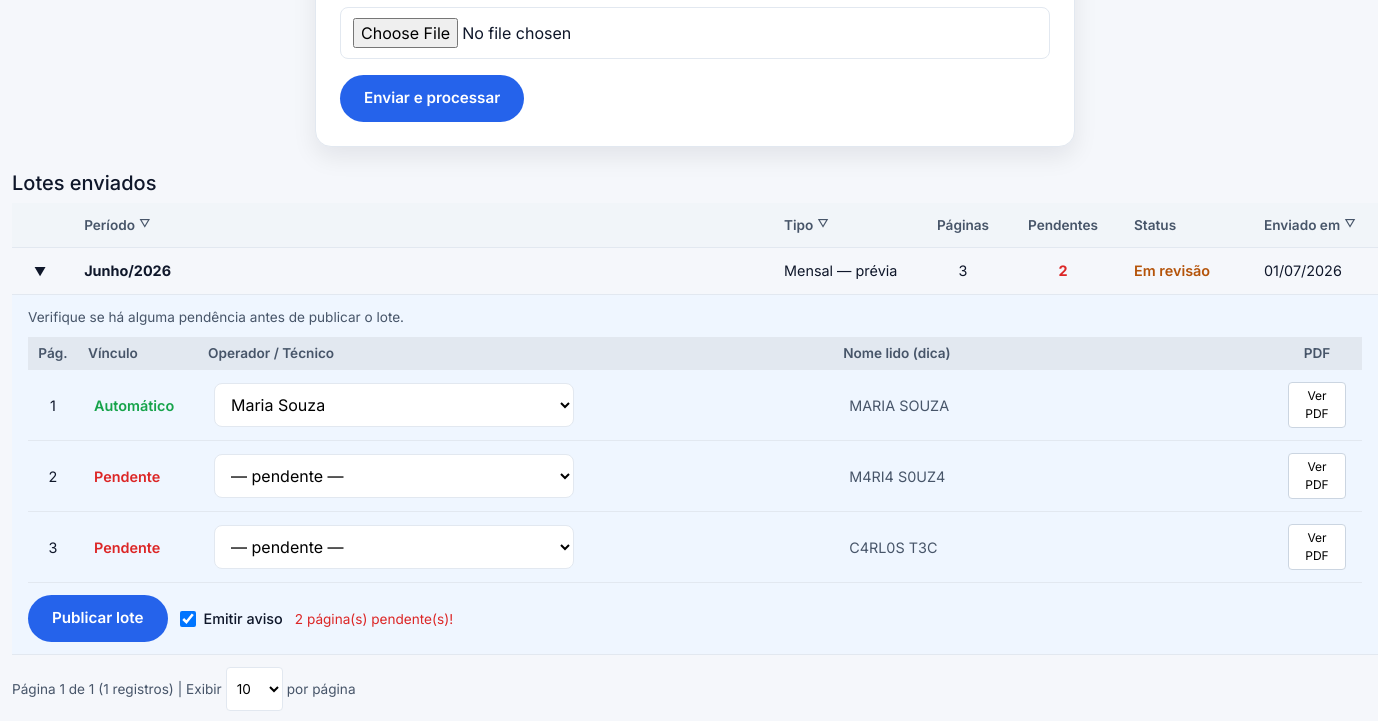
Test: AdminPontoComponent › render da revisão do lote (select de vínculo e botão Publicar) › a recusa da publicação aparece NA TELA, junto do botão (não só no toast)
(page scrolled)
Click the button with class "btn-publicar".
click(98, 619)  # box [28, 595, 168, 642]
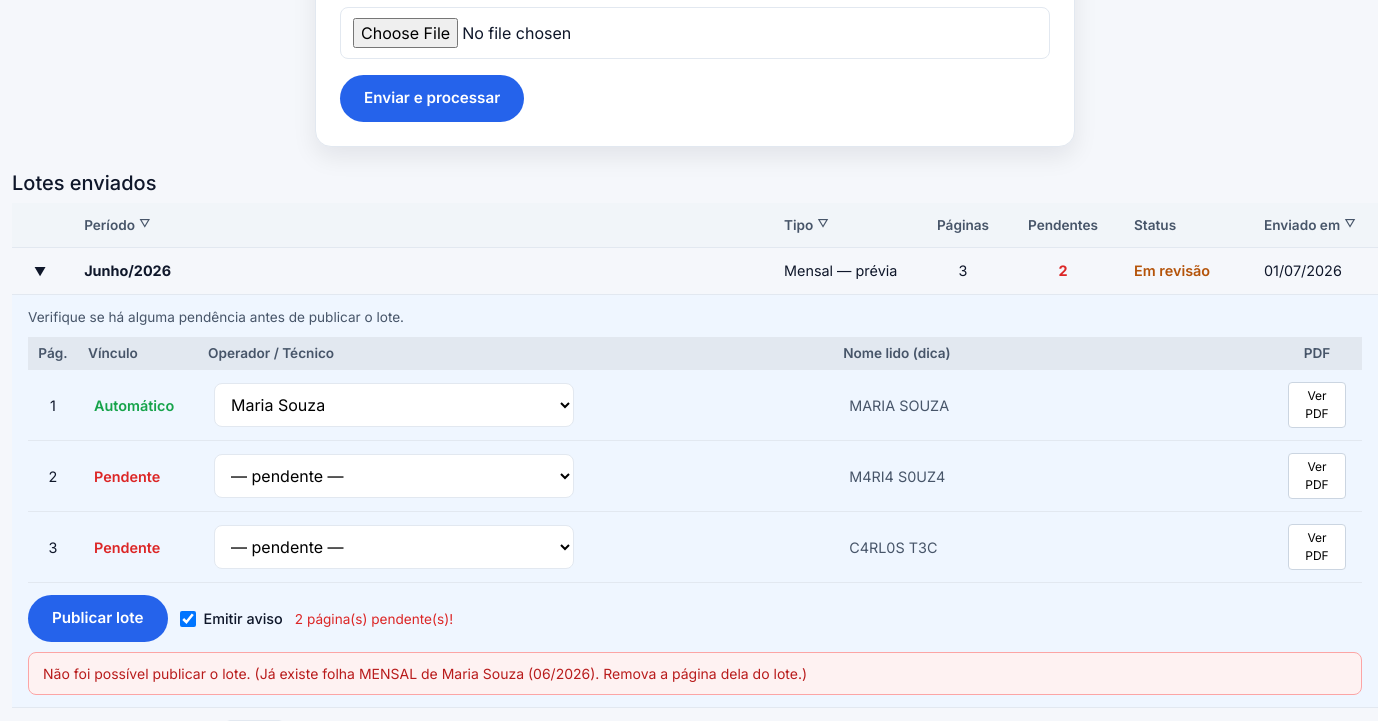
Expected: the text with class "error-box" is shown, [28, 652, 1362, 695]
Expected: the text with class "error-box" shows "Maria Souza", [43, 665, 807, 682]
